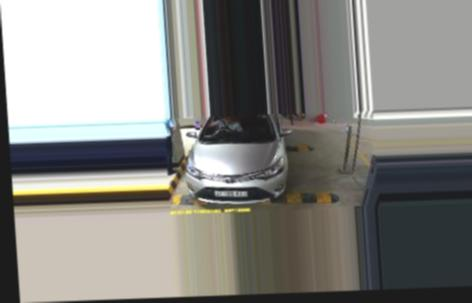License_Plate: (213, 188, 248, 199)
